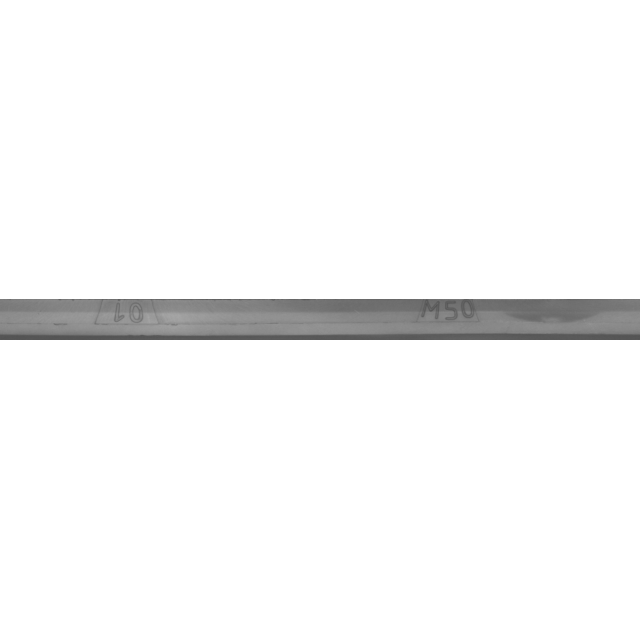mohao: (359, 270, 559, 370)
xuehao: (25, 270, 225, 370)
